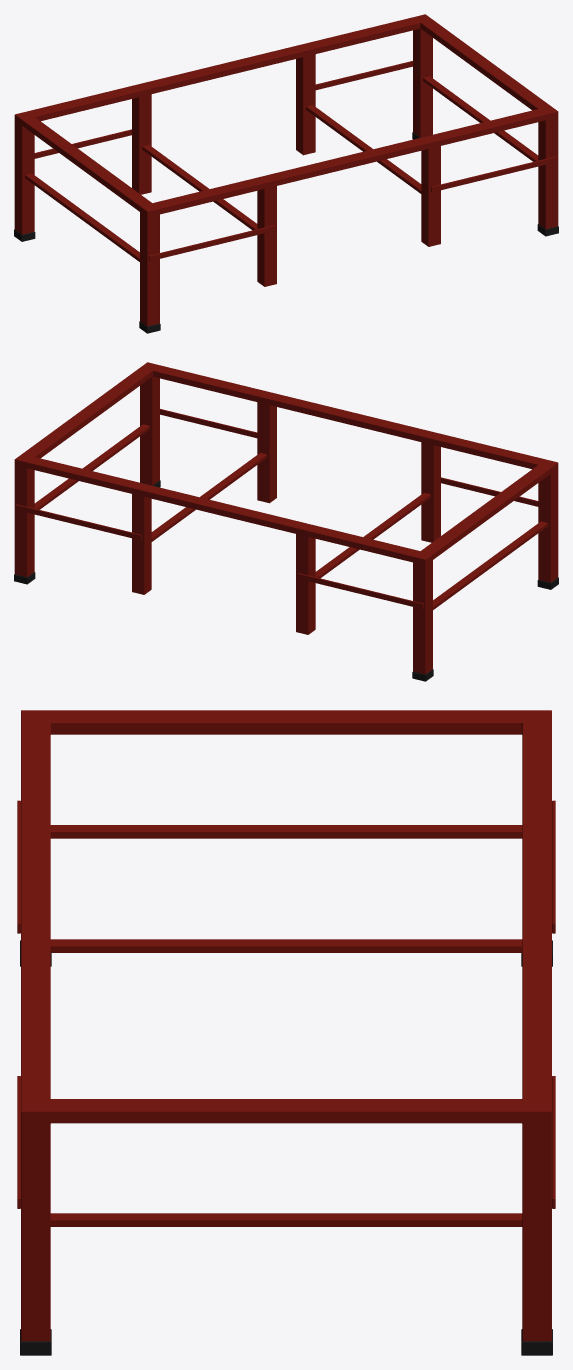
File: midtable.glb
3 renders of one model, top to bottom at view 1: azimuth 30°, elevation 25°; view 2: azimuth 150°, elevation 25°; view 3: azimuth 270°, elevation 25°, orthographic. The views are drawn at different scales.
Visible parts, largest first — view 1: frame; view 2: frame; view 3: frame.
Boxes of the visible parts, box(x1,y1,x2,y2) form: frame: box(14, 14, 558, 333); frame: box(14, 362, 558, 681); frame: box(17, 710, 555, 1355).
Size of the model in its own units: 81.08 by 22.96 by 45.89.
